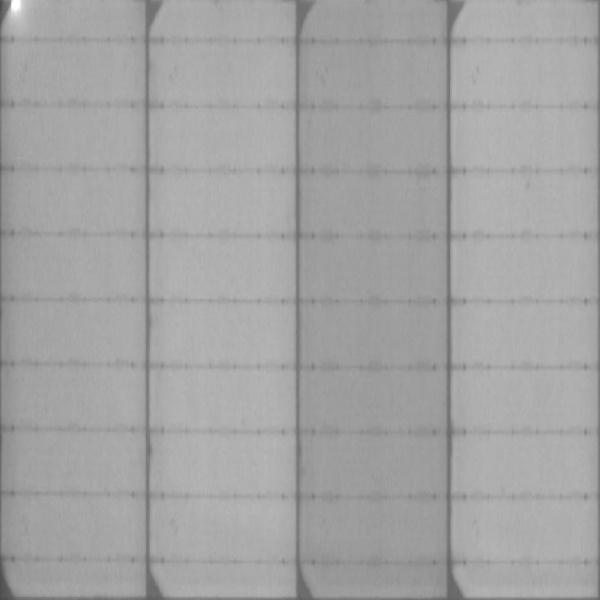hot_spot: (9, 1, 23, 15)
